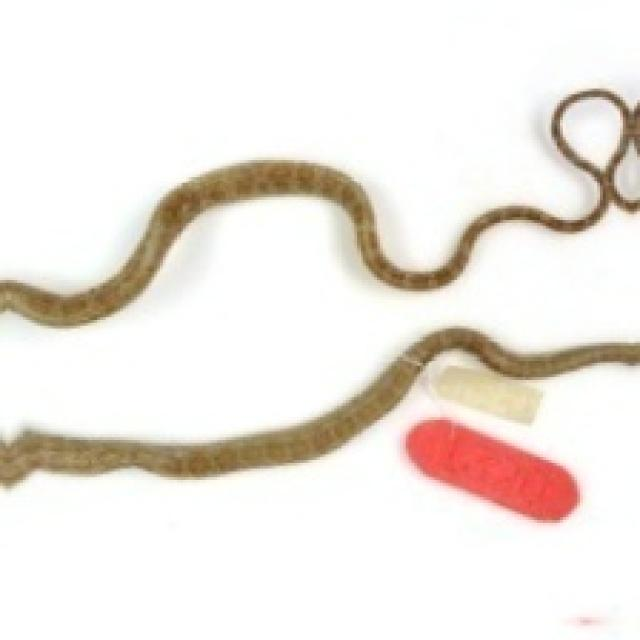mullers wolf snake: (0, 89, 637, 323), (0, 326, 637, 483), (0, 329, 637, 483)
